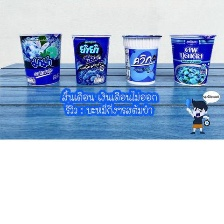paper_cup: (167, 30, 218, 88), (16, 29, 65, 88), (118, 29, 164, 88), (69, 31, 113, 88)
